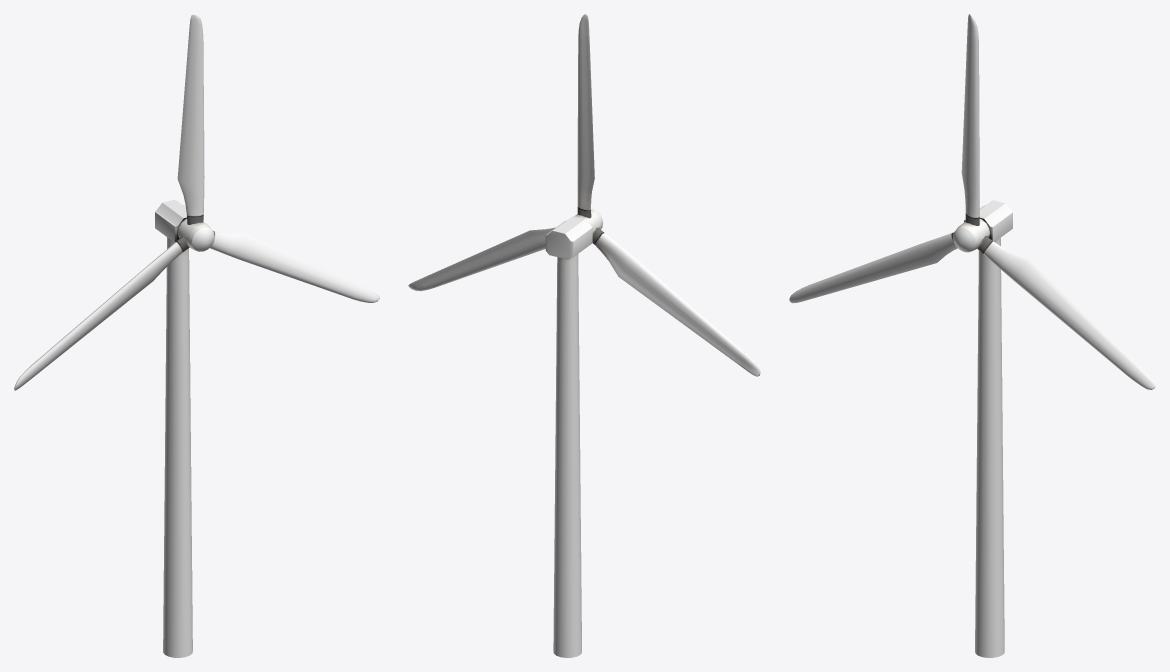
The picture shows the model from 3 angles, left to right: view 1: azimuth 30°, elevation 25°; view 2: azimuth 150°, elevation 25°; view 3: azimuth 330°, elevation 25°; orthographic projection. The views are drawn at different scales.
Parts seen in each view (by area): view 1: Windturbine Support, Windturbine Blades; view 2: Windturbine Support, Windturbine Blades; view 3: Windturbine Blades, Windturbine Support.
Part boxes in pixels (x1=…): Windturbine Support: x1=155, y1=199, x2=203, y2=657; Windturbine Blades: x1=14, y1=14, x2=379, y2=390; Windturbine Support: x1=545, y1=216, x2=592, y2=657; Windturbine Blades: x1=408, y1=14, x2=760, y2=376; Windturbine Blades: x1=789, y1=14, x2=1155, y2=389; Windturbine Support: x1=964, y1=200, x2=1012, y2=657.
Bounding box in the file's own units: 11.69 × 19.91 × 2.13.
Materials: 1 (1 with a texture image).
